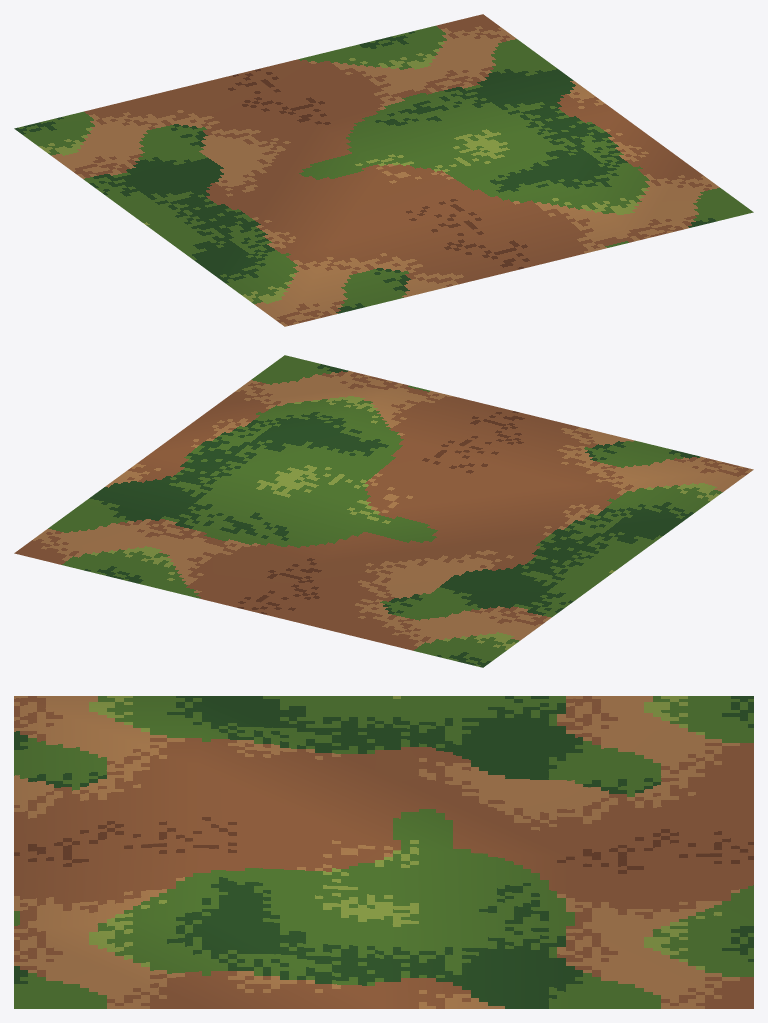
Rendered from land.ground__jungle.glb.
The picture shows the model from 3 angles, top to bottom: view 1: azimuth 30°, elevation 25°; view 2: azimuth 150°, elevation 25°; view 3: azimuth 270°, elevation 25°; orthographic projection. The views are drawn at different scales.
Parts seen in each view (by area): view 1: kit_shell_ground; view 2: kit_shell_ground; view 3: kit_shell_ground.
Boxes of the visible parts, <box> form: kit_shell_ground: <box>14,14,753,326</box>; kit_shell_ground: <box>14,355,753,667</box>; kit_shell_ground: <box>14,696,753,1008</box>.
Size of the model in its own units: 8 by 0.2256 by 8.
Materials: 1 (1 with a texture image).
